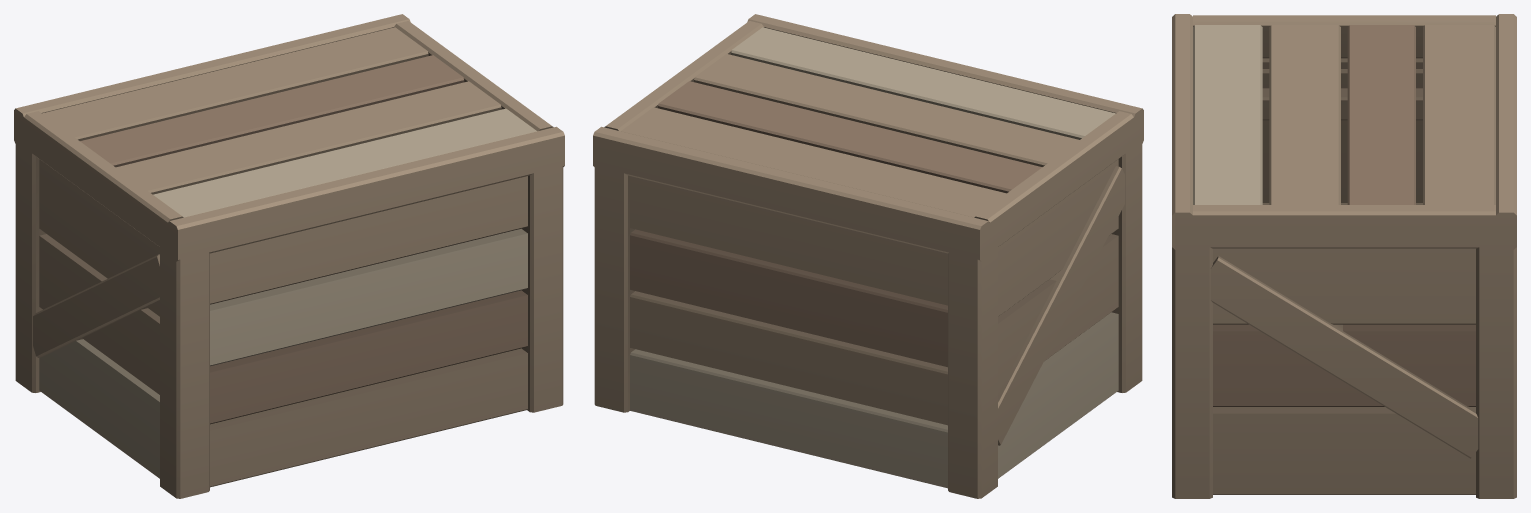
The model's file is wcrate.glb.
3 views of the same model, side by side, from view 1: azimuth 30°, elevation 25°; view 2: azimuth 150°, elevation 25°; view 3: azimuth 270°, elevation 25° (orthographic). The views are drawn at different scales.
Parts seen in each view (by area): view 1: wcrate; view 2: wcrate; view 3: wcrate.
Part boxes in pixels (x1,y1,x2,y2): wcrate: (14, 14, 564, 498); wcrate: (593, 14, 1143, 498); wcrate: (1172, 14, 1516, 498).
Bounding box in the file's own units: 0.9 × 0.605 × 0.66.
